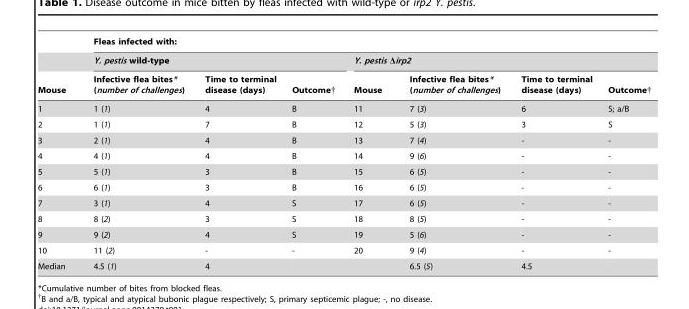table: (36, 36, 650, 270)
table column: (78, 36, 194, 270), (395, 36, 510, 270), (194, 36, 283, 270), (510, 36, 599, 270), (283, 36, 343, 270), (343, 36, 395, 270), (599, 36, 650, 270), (36, 36, 78, 270)
table column header: (36, 36, 650, 99)
table row: (36, 69, 650, 99), (36, 50, 650, 69), (36, 99, 650, 116), (36, 116, 650, 132), (36, 147, 650, 163), (36, 163, 650, 179), (36, 179, 650, 195), (36, 210, 650, 226), (36, 226, 650, 242), (36, 242, 650, 258), (36, 132, 650, 147), (36, 195, 650, 210), (36, 36, 650, 50), (36, 258, 650, 270)
table spanning cell: (78, 36, 650, 50), (343, 50, 650, 69), (78, 50, 343, 69), (36, 36, 78, 99)
